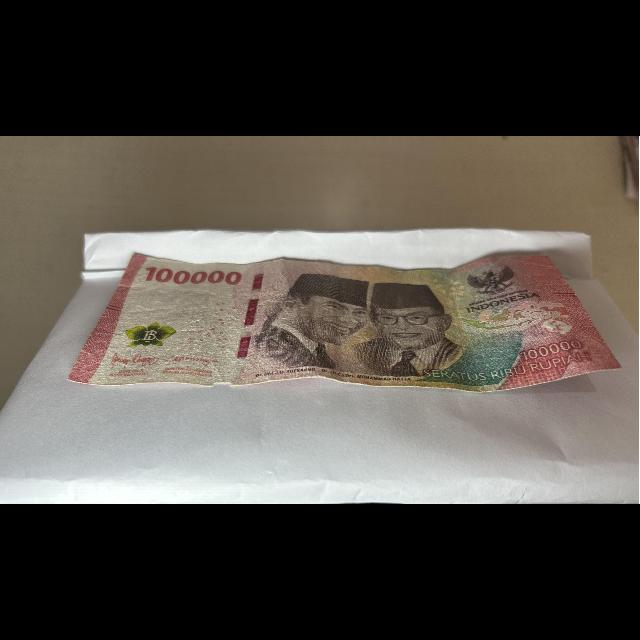Palsu-100k: (46, 236, 640, 402)
Tinta-Palsu-100k: (121, 321, 179, 349)
